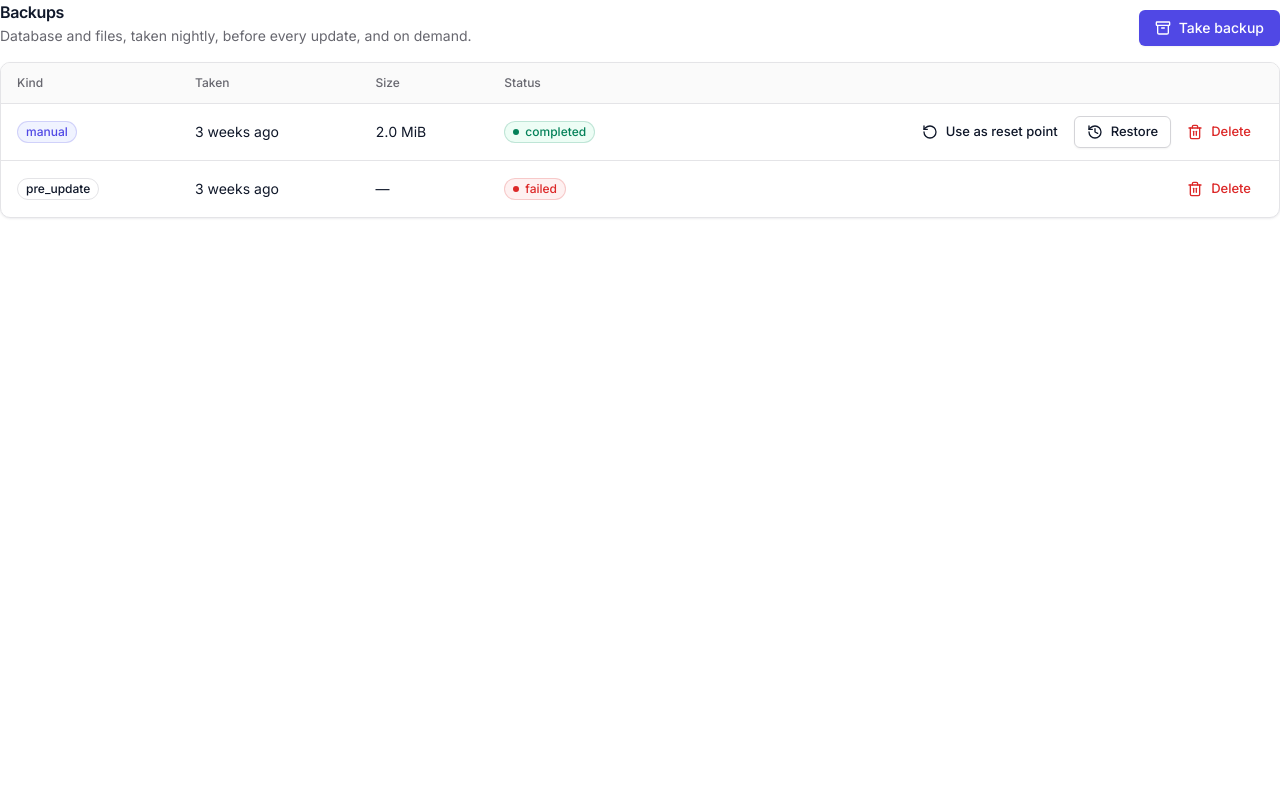
it: backups › sets a reset point with an interval, shows it, and stops it
Click the button "Use as reset point" at (990, 132), box top-left (910, 116), bottom-right (1070, 148)
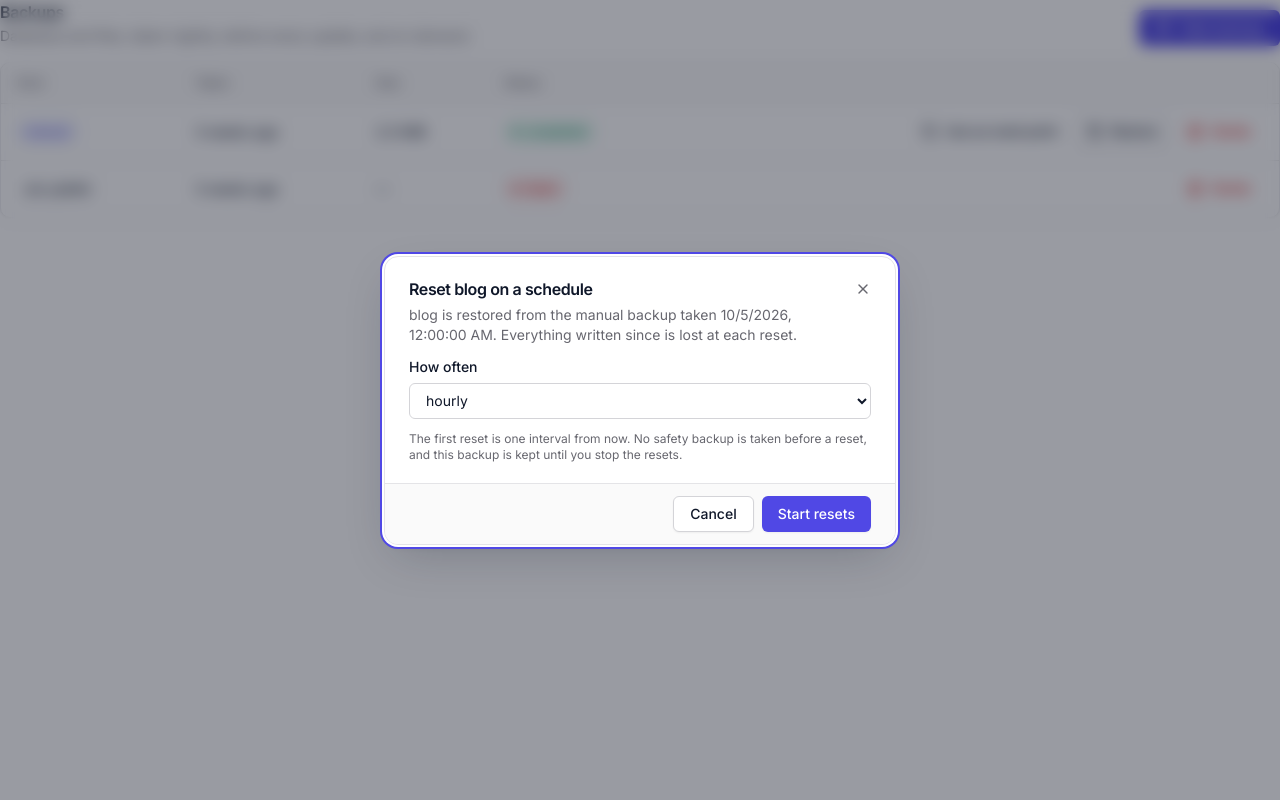
Select "hourly" in the dropdown at (640, 400), box top-left (409, 382), bottom-right (871, 418)
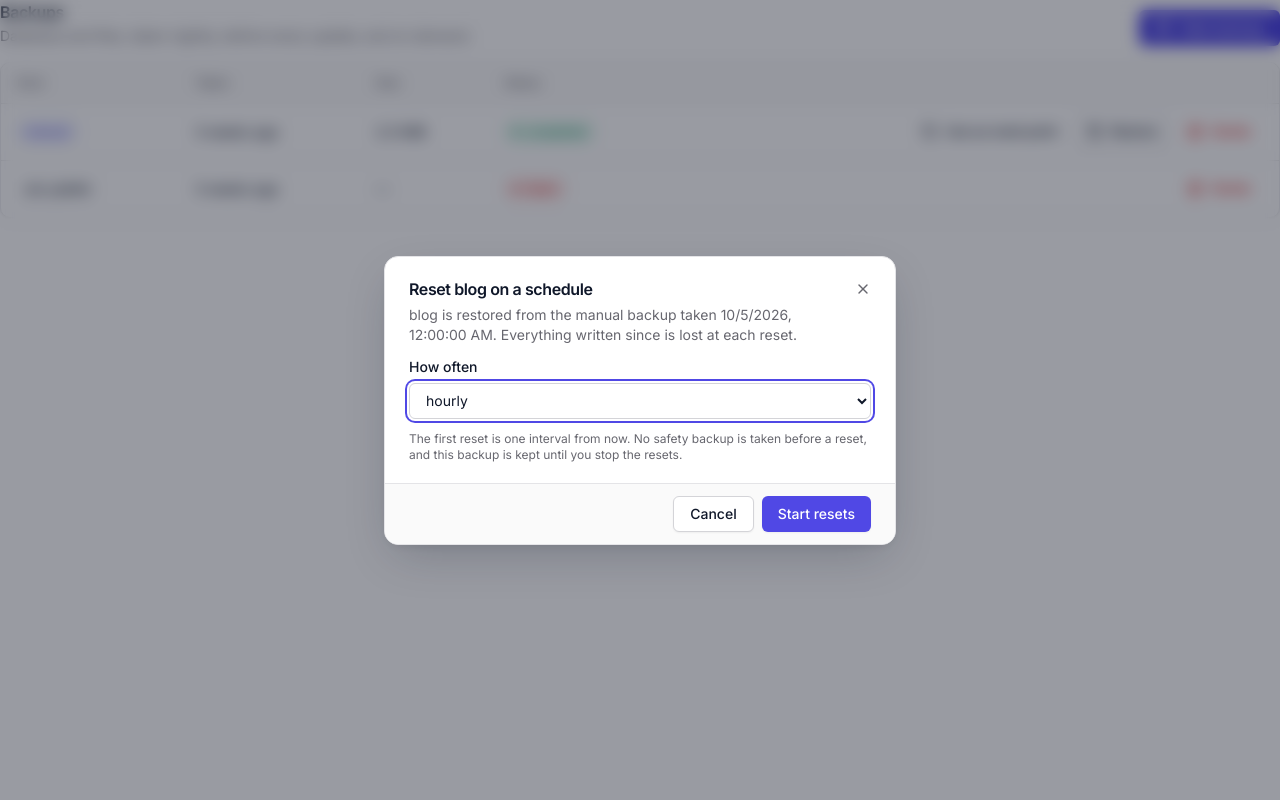
Click the button "Start resets" at (816, 514), box top-left (762, 496), bottom-right (871, 532)
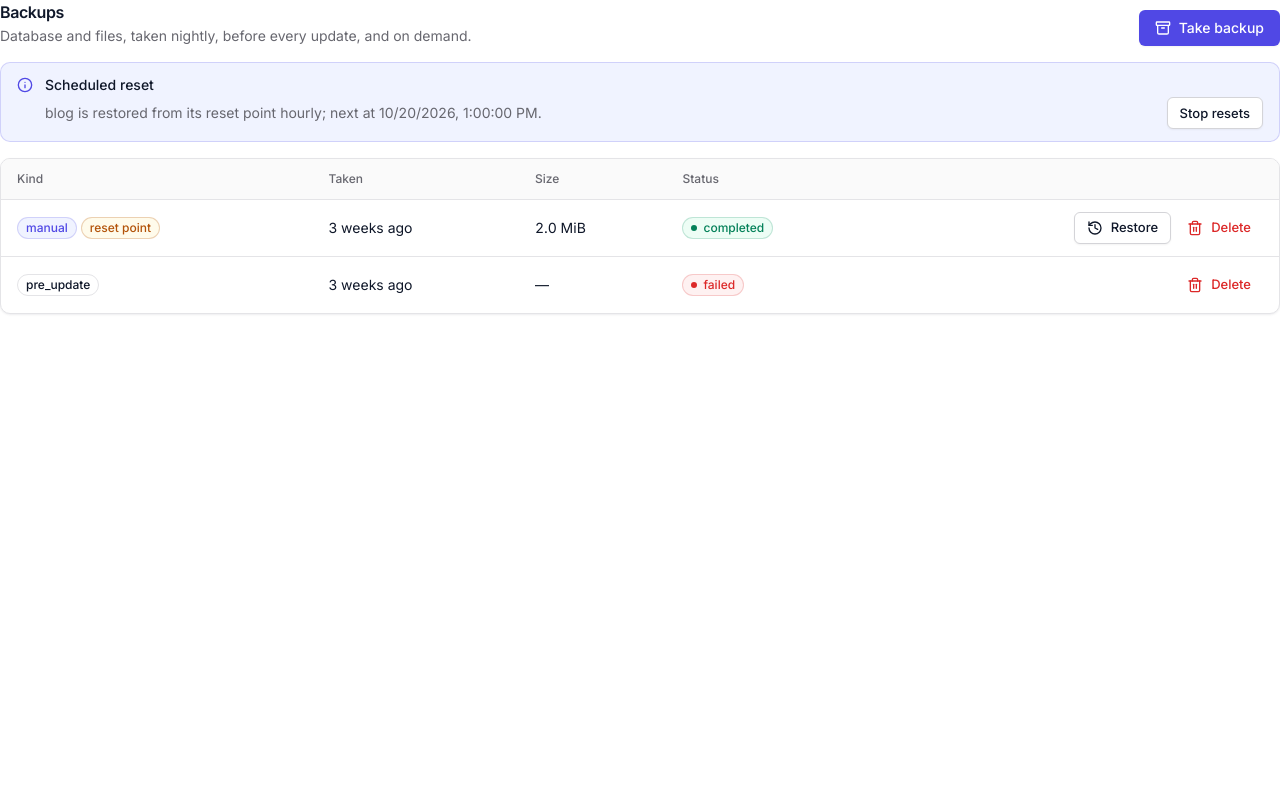
Expected: the text "restored from its reset point hourly" is shown, top-left (45, 103), bottom-right (542, 123)
Expected: the text "reset point" is shown, top-left (81, 216), bottom-right (160, 238)
Click the button "Stop resets" at (1215, 113), box top-left (1167, 97), bottom-right (1263, 129)
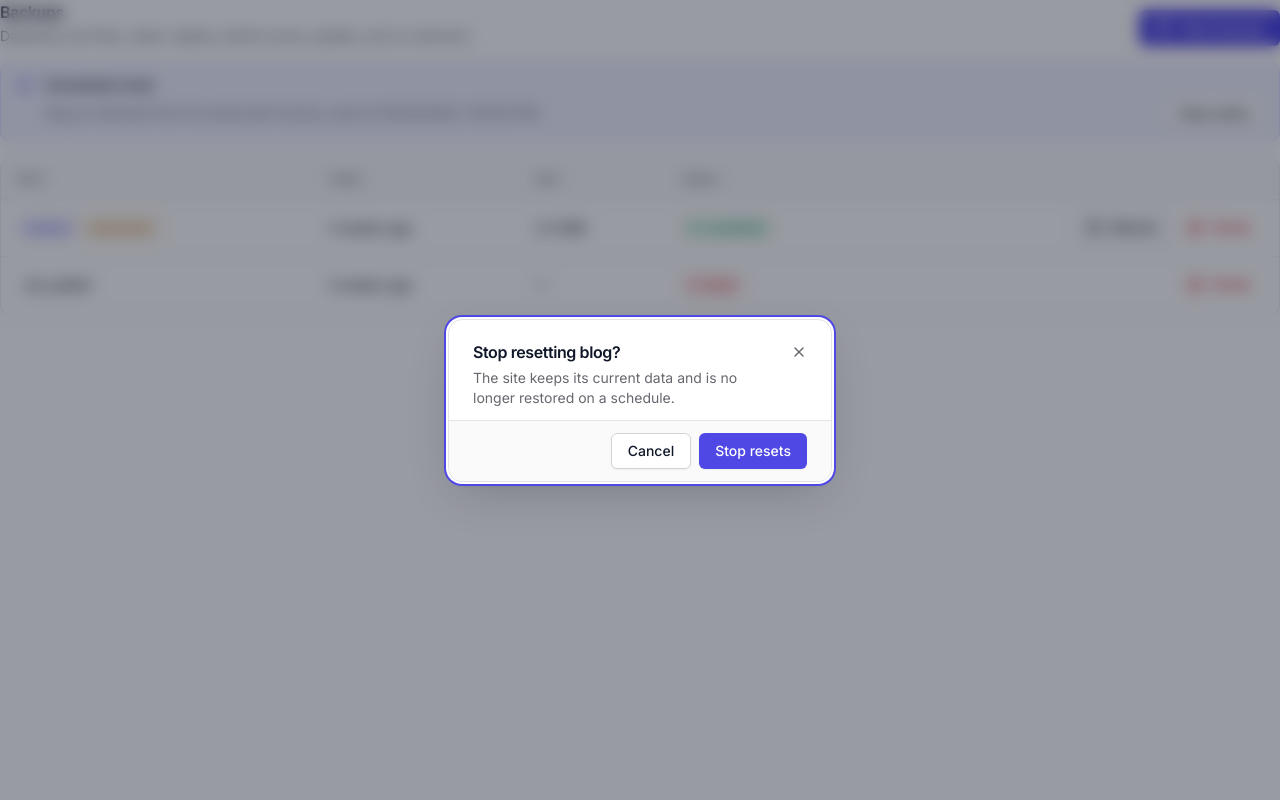
Click the button with test id "confirm-accept" at (753, 450), box top-left (699, 432), bottom-right (807, 468)
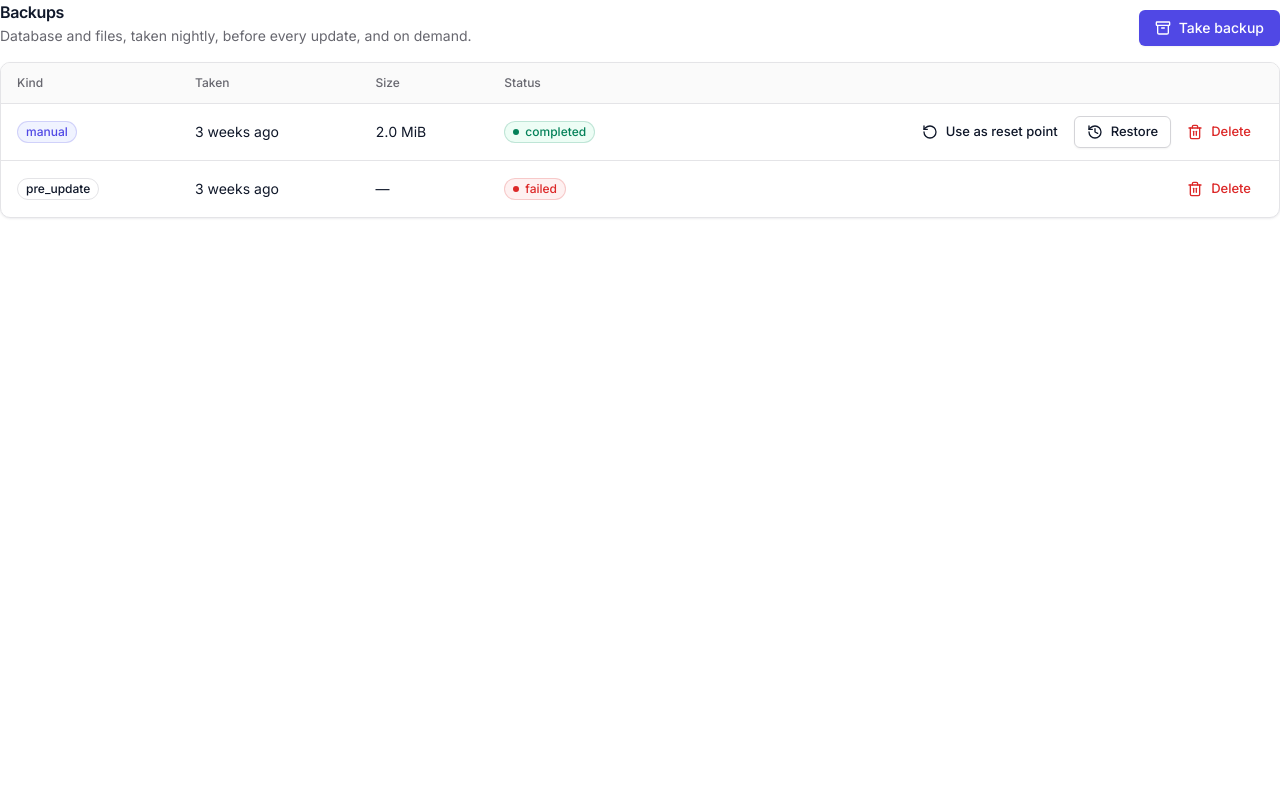
Expected: the text "restored from its reset point" is gone
